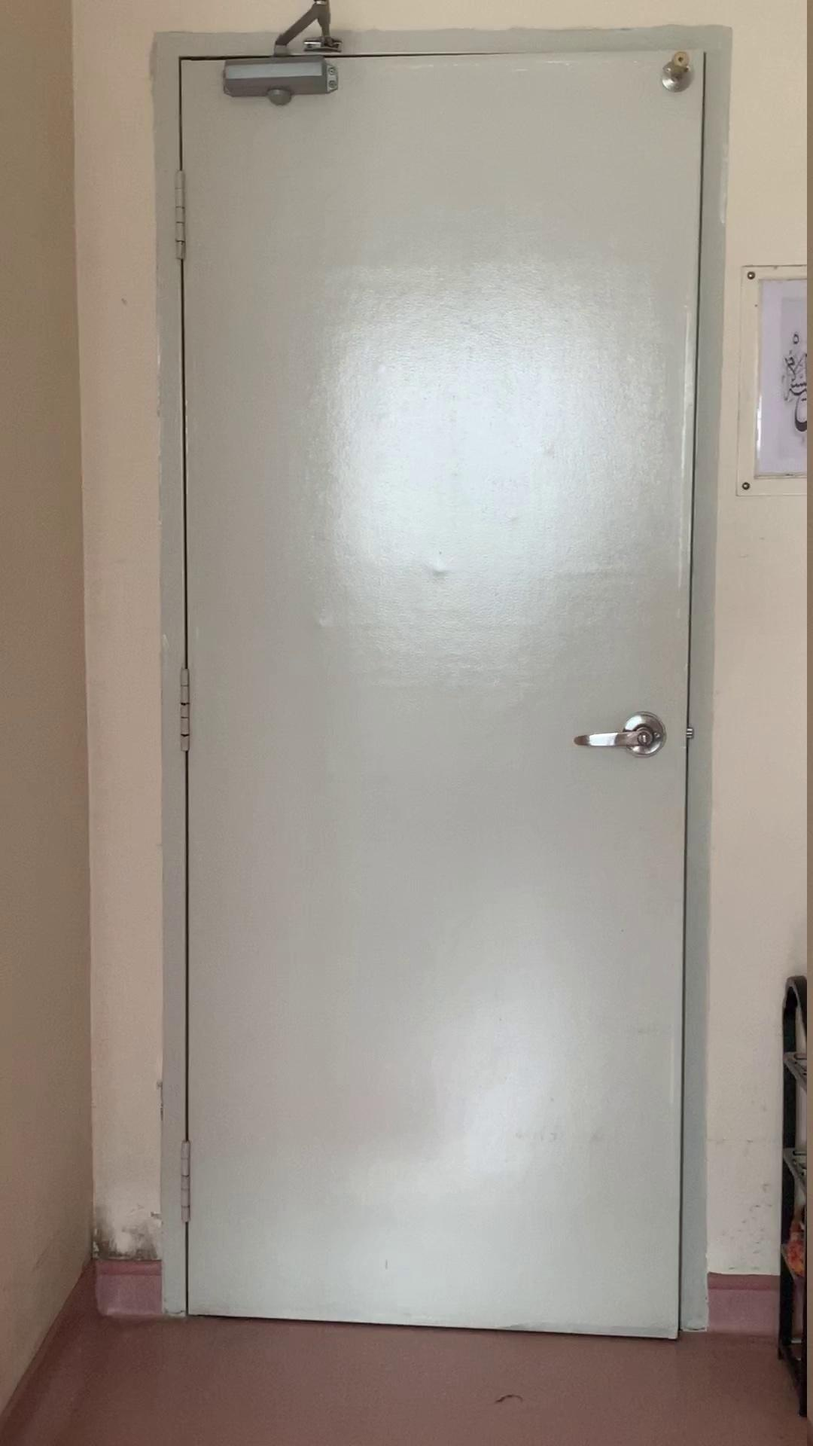door: (150, 28, 733, 1344)
